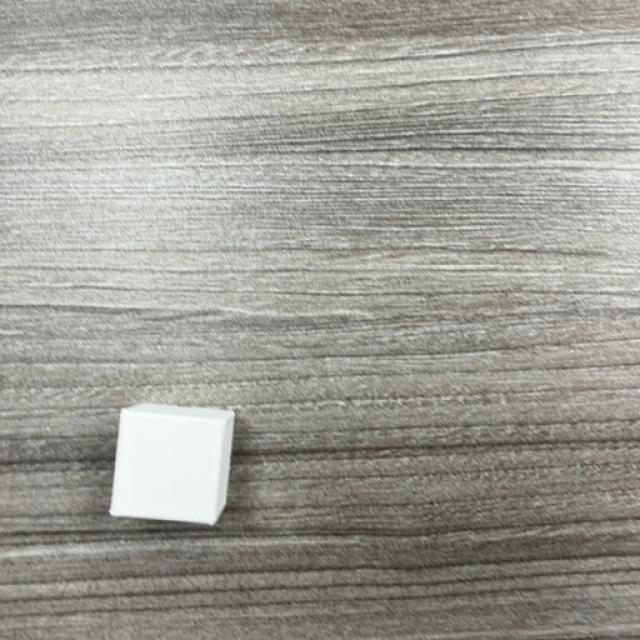Blanco: (110, 404, 235, 529)
